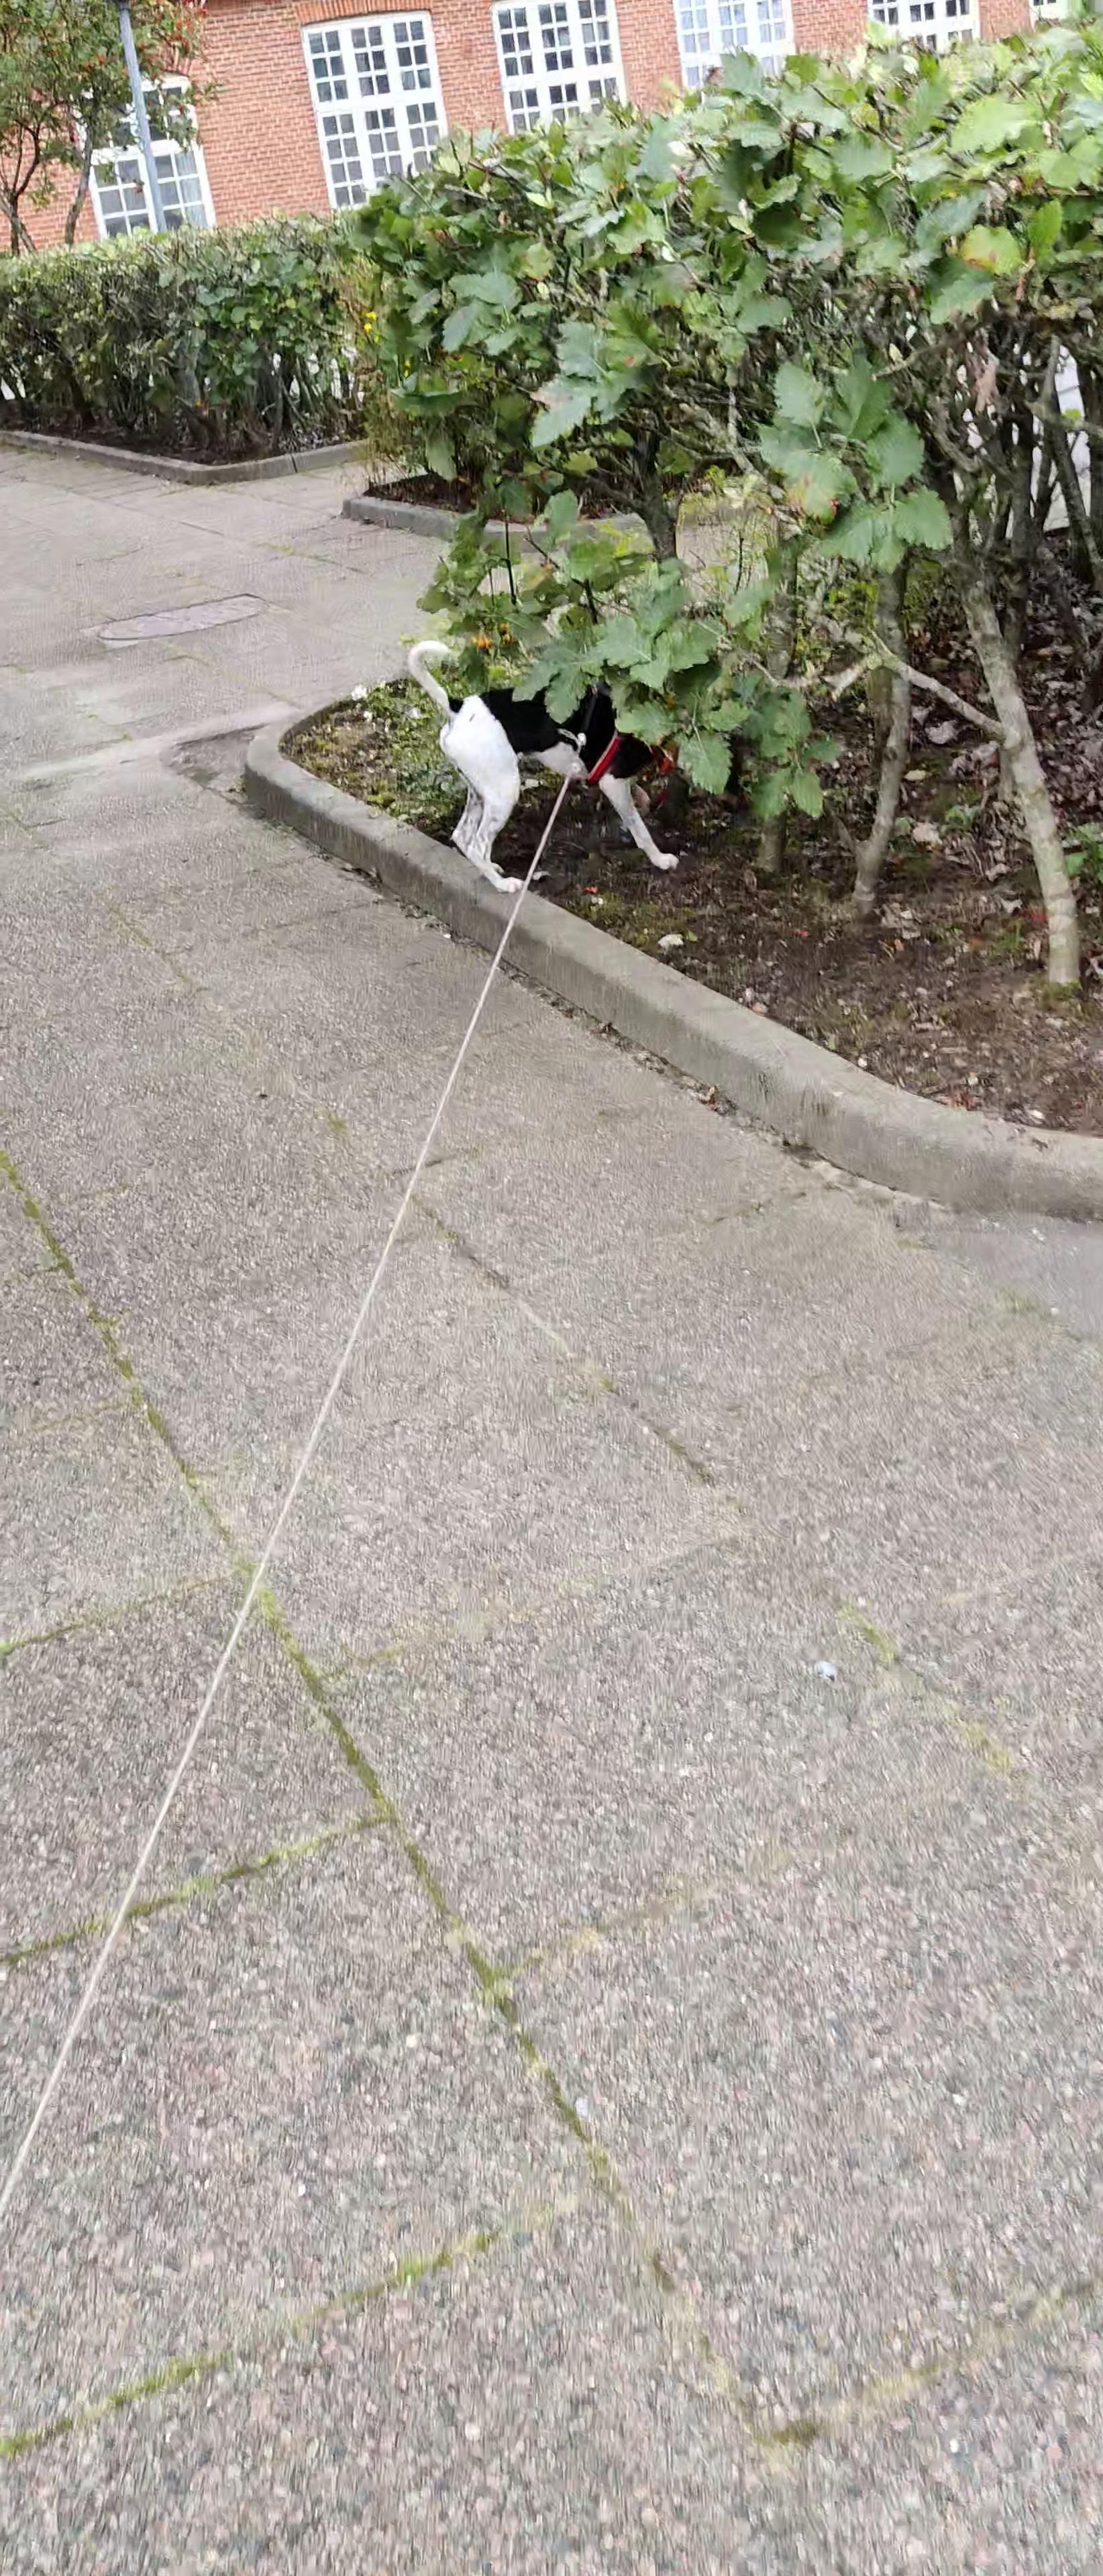Dog: (398, 634, 753, 897)
